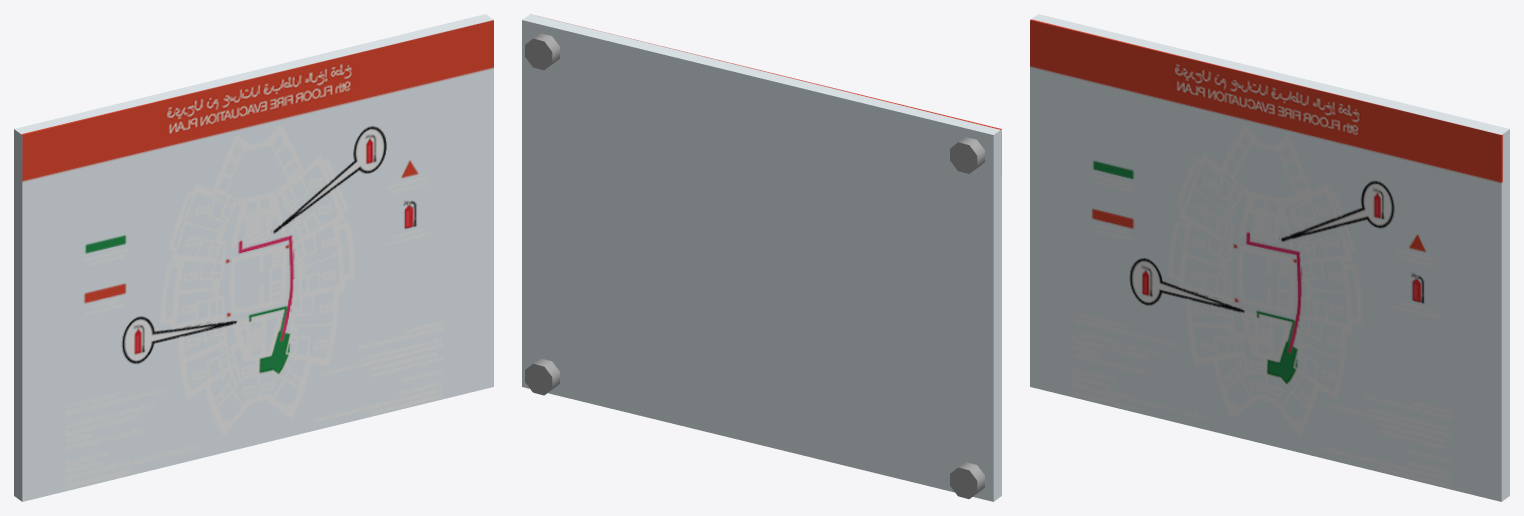
The model's file is HW_Decal.fbx.
The picture shows the model from 3 angles, left to right: view 1: azimuth 30°, elevation 25°; view 2: azimuth 150°, elevation 25°; view 3: azimuth 330°, elevation 25°; orthographic projection.
Visible parts, largest first — view 1: HW_Decal; view 2: HW_Decal; view 3: HW_Decal.
Part boxes in pixels (left/top/right/bottom): HW_Decal: left=14, top=14, right=493, bottom=501; HW_Decal: left=522, top=14, right=1001, bottom=501; HW_Decal: left=1030, top=14, right=1509, bottom=501.
Size of the model in its own units: 27.79 by 20.66 by 1.62.
